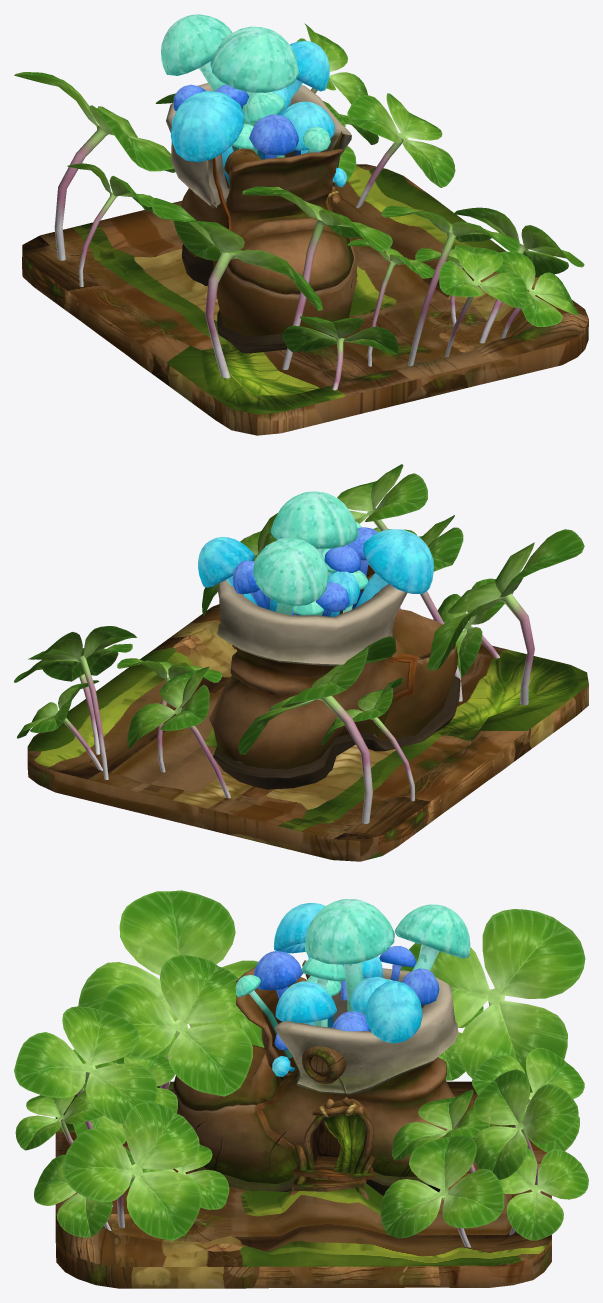
File: shoe-transformed.glb
3 renders of one model, top to bottom at view 1: azimuth 30°, elevation 25°; view 2: azimuth 150°, elevation 25°; view 3: azimuth 270°, elevation 25°, orthographic. The views are drawn at different scales.
Visible parts, largest first — view 1: Object_5, Object_6, Object_2, Object_3, Object_4; view 2: Object_5, Object_2, Object_6, Object_3; view 3: Object_6, Object_5, Object_2, Object_3, Object_4.
Boxes of the visible parts, left/top/right/bottom form: Object_5: left=22, top=164, right=588, bottom=435; Object_6: left=14, top=23, right=584, bottom=390; Object_2: left=166, top=83, right=357, bottom=353; Object_3: left=161, top=14, right=346, bottom=186; Object_4: left=224, top=148, right=357, bottom=284; Object_5: left=27, top=604, right=588, bottom=861; Object_2: left=209, top=564, right=460, bottom=789; Object_6: left=14, top=464, right=584, bottom=823; Object_3: left=198, top=491, right=433, bottom=616; Object_6: left=14, top=890, right=588, bottom=1247; Object_5: left=55, top=1081, right=551, bottom=1288; Object_2: left=171, top=960, right=465, bottom=1195; Object_3: left=235, top=899, right=470, bottom=1076; Object_4: left=276, top=976, right=375, bottom=1199.
Bounding box in the file's own units: 5.72 × 3.55 × 6.53.
Materials: 5 (5 with a texture image).
